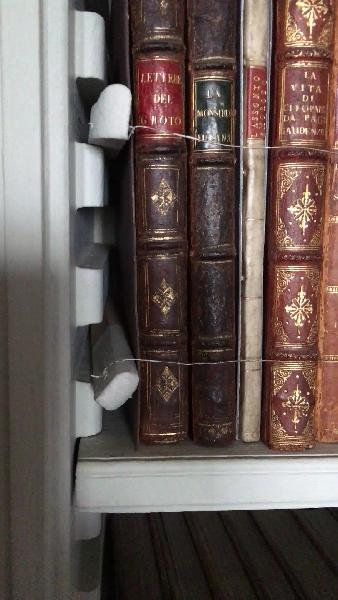Aa6-1: (123, 4, 193, 451)
Aa6-2: (184, 4, 251, 450)
Aa6-3: (244, 5, 274, 459)
Aa6-4: (269, 5, 338, 457)
